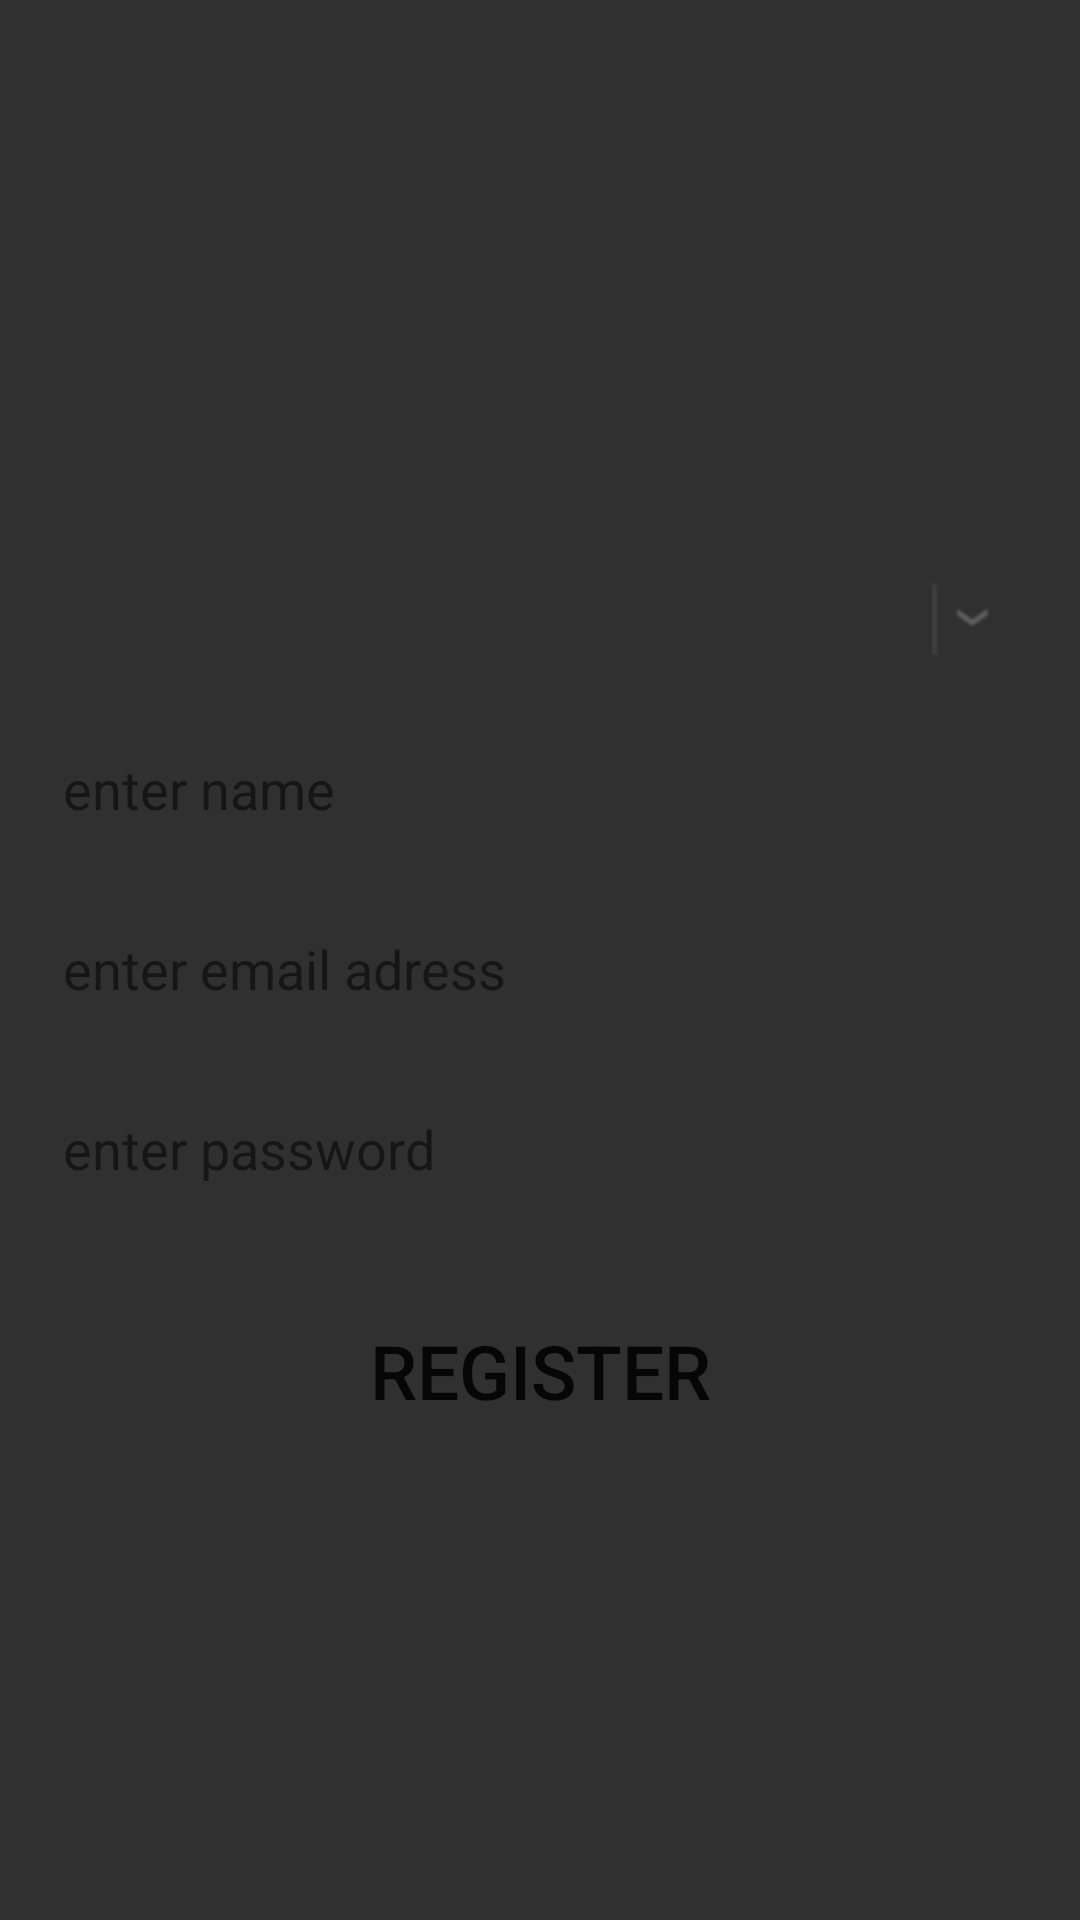

Named icons in this screenshot (1080x1920) and their bounding boxes, BBox(x1, y1, x2, y2):
spinner converted one: BBox(957, 610, 987, 625)
